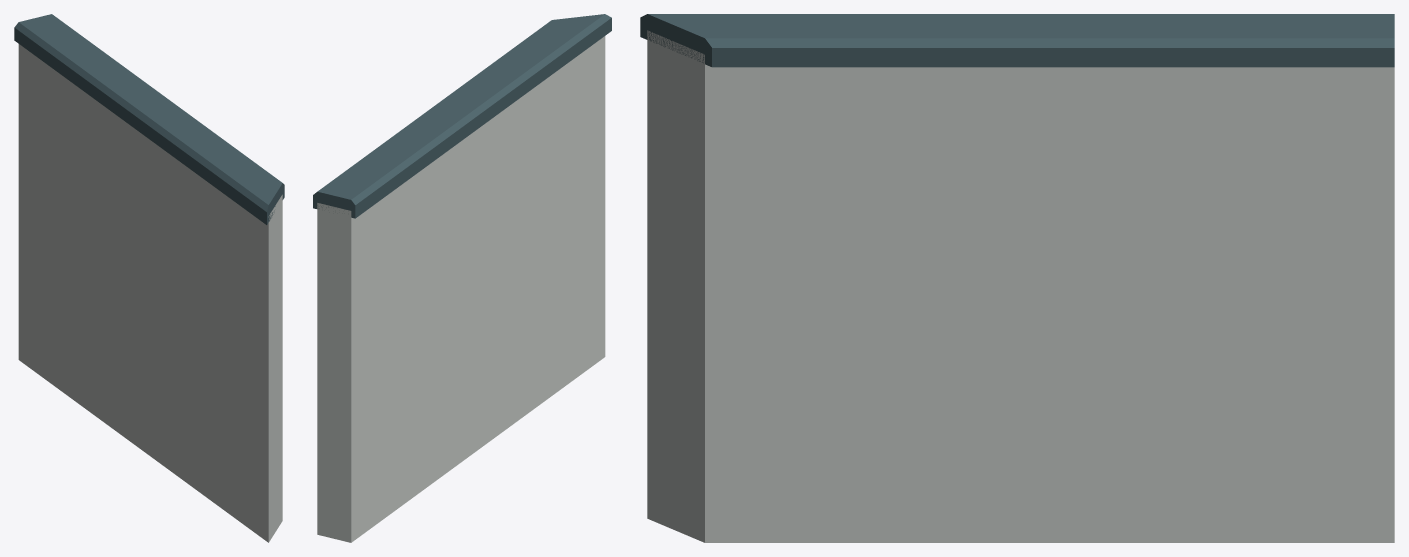
The model's file is halfwall_straight_100cm_miter_10000_10000_10000_0.glb.
3 views of the same model, side by side, from view 1: azimuth 30°, elevation 25°; view 2: azimuth 150°, elevation 25°; view 3: azimuth 270°, elevation 25° (orthographic). The views are drawn at different scales.
Parts seen in each view (by area): view 1: Seamless solid halfwall.016, Seamless top cap.016; view 2: Seamless solid halfwall.016, Seamless top cap.016; view 3: Seamless solid halfwall.016, Seamless top cap.016.
Boxes of the visible parts, box(x1,y1,x2,y2) form: Seamless solid halfwall.016: box(18, 44, 282, 542); Seamless top cap.016: box(14, 14, 284, 224); Seamless solid halfwall.016: box(317, 36, 605, 542); Seamless top cap.016: box(313, 14, 611, 218); Seamless solid halfwall.016: box(647, 30, 1394, 542); Seamless top cap.016: box(640, 14, 1394, 67).
Size of the model in its own units: 0.1 by 0.775 by 1.05.
